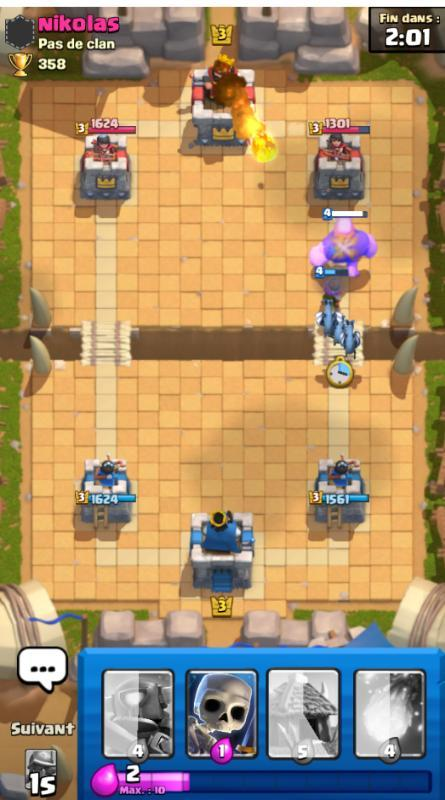enemy_fireball: (229, 89, 284, 172)
player_giant: (303, 208, 382, 277)
player_minions: (333, 317, 364, 355), (314, 295, 345, 332)
